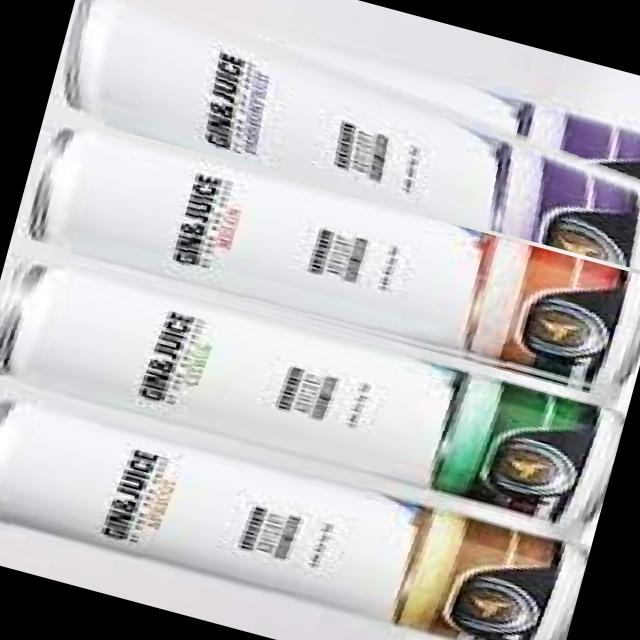Cans: (0, 247, 627, 543), (14, 114, 640, 406), (49, 0, 640, 275), (0, 380, 591, 640)
